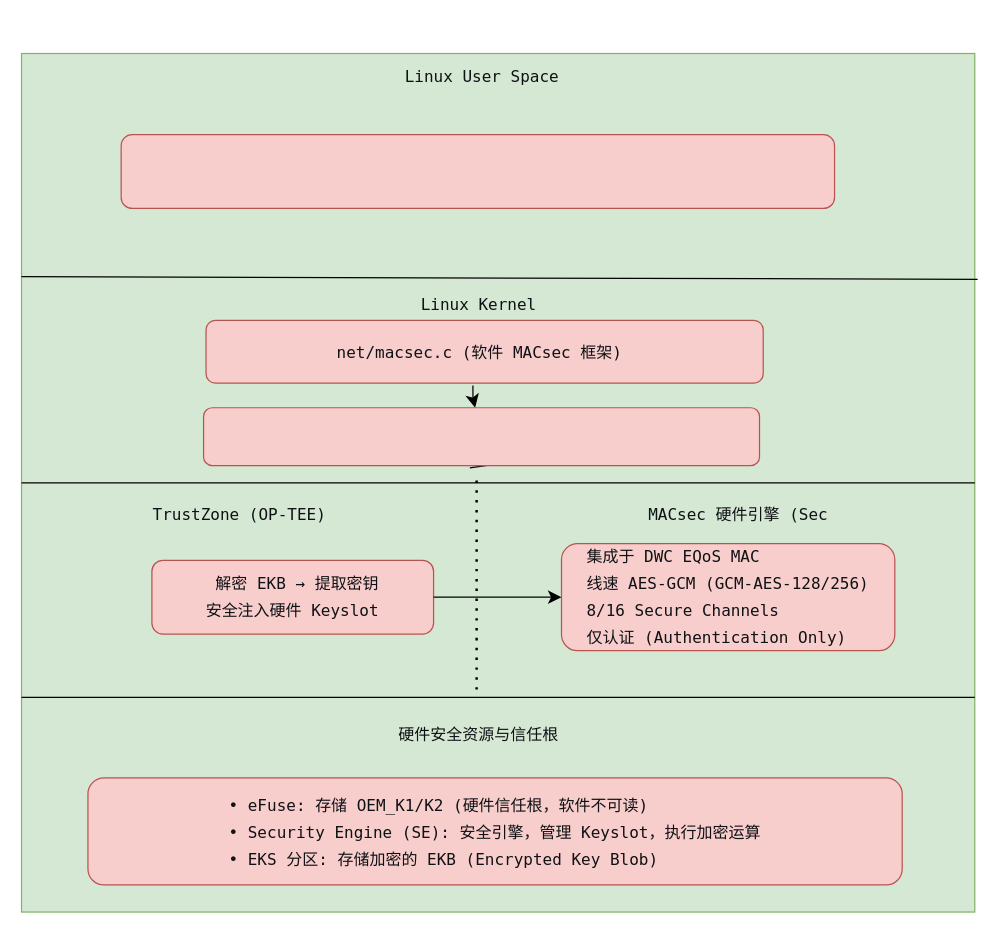
This 1000x934 diagram has some shape labels left out. Here are the shapes that lost their labels. From the top down, the centre of each, then its label:
At (477,170): "nv_macsec_wpa_supplicant (KaY 实体，仅支持认证) iproute2".
At (481,436): "nvethernet / oot驱动 (配置 DWC MGBE/EQoS 硬件)".
